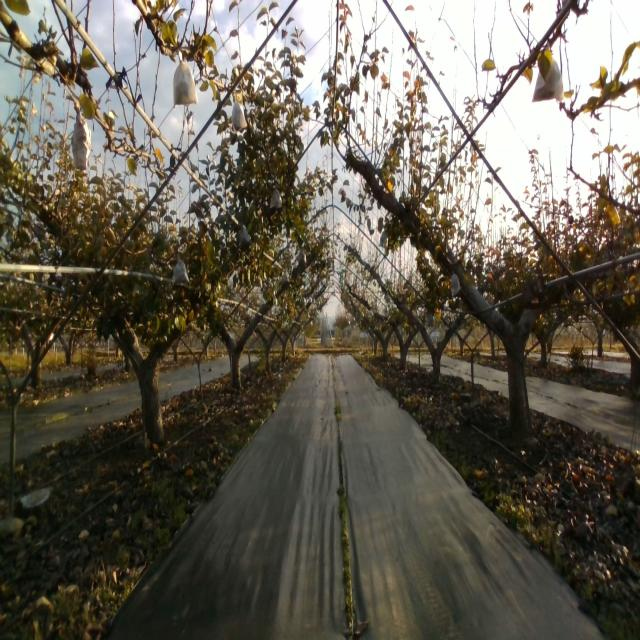pearbags: (532, 59, 564, 102), (174, 50, 196, 109), (71, 103, 90, 171), (231, 92, 248, 132), (171, 255, 190, 285), (237, 223, 252, 248), (270, 182, 282, 208), (451, 270, 462, 296)
